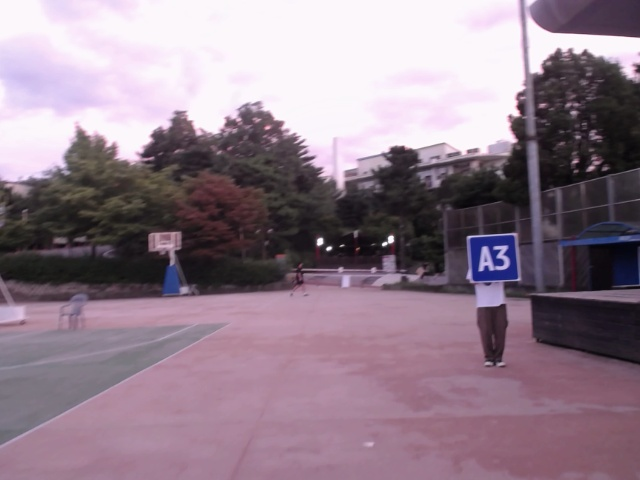delivery_a3: (468, 236, 520, 281)
